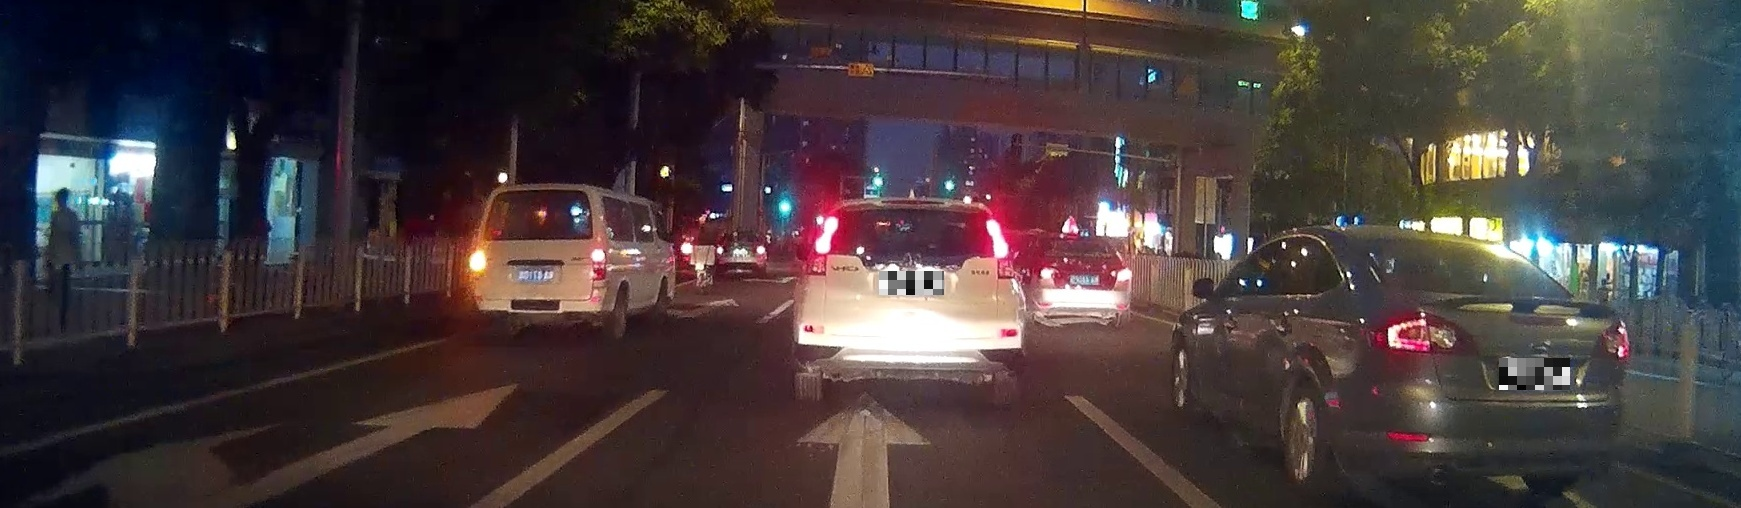L_light: (1367, 311, 1478, 355), (809, 215, 836, 275), (471, 250, 485, 277), (1038, 267, 1061, 280)
R_light: (986, 219, 1017, 278), (1589, 321, 1629, 358), (590, 248, 606, 280), (1114, 268, 1133, 280)
T_light: (1430, 242, 1470, 252), (892, 206, 926, 216), (530, 190, 552, 197), (1067, 240, 1086, 245)
night-left: (470, 183, 607, 338)
night-no: (1356, 225, 1630, 494), (792, 197, 1026, 407), (1038, 234, 1133, 326)
plate_1: (879, 271, 944, 295)
plate_2: (1499, 358, 1570, 390)
